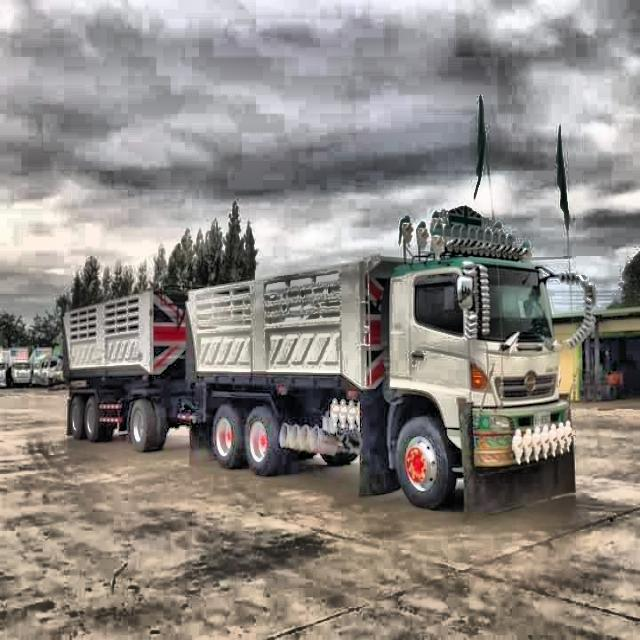trailer: (60, 204, 576, 510)
